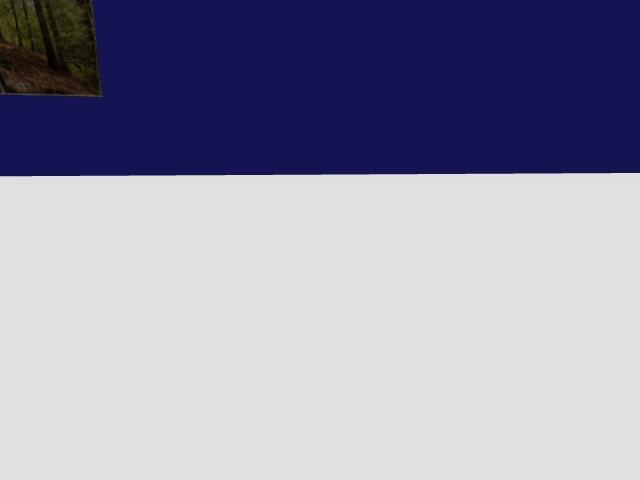tree: (33, 0, 61, 70), (45, 0, 68, 71), (76, 0, 97, 67), (9, 0, 22, 46)
